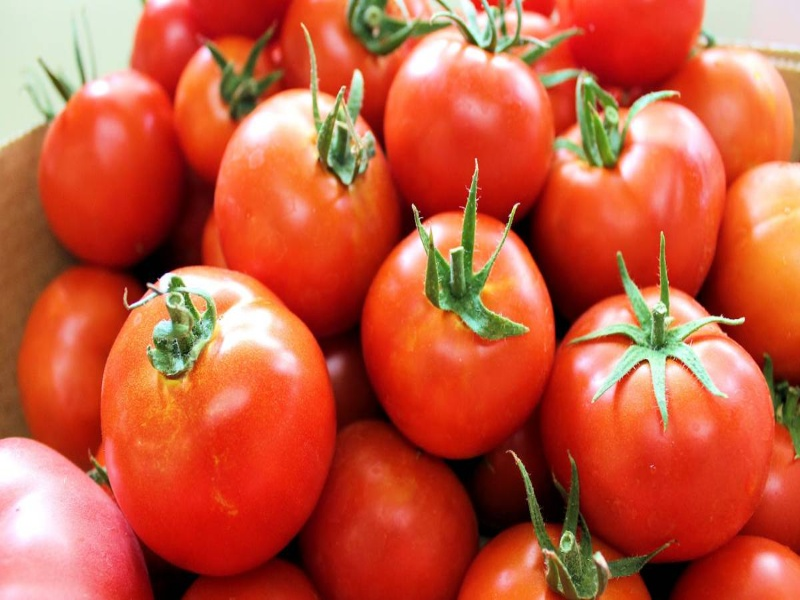Tomate: (101, 265, 336, 575), (540, 286, 774, 561), (360, 210, 556, 457), (216, 90, 404, 339), (540, 100, 727, 302), (385, 29, 558, 225), (304, 422, 478, 597), (37, 70, 185, 269), (19, 266, 159, 465), (1, 432, 158, 599), (280, 1, 436, 138), (715, 163, 800, 388), (174, 35, 289, 184), (670, 45, 793, 181), (458, 514, 650, 600), (131, 1, 285, 88), (560, 1, 706, 83), (474, 419, 557, 530), (670, 535, 800, 600), (311, 331, 384, 426), (177, 559, 324, 600)
